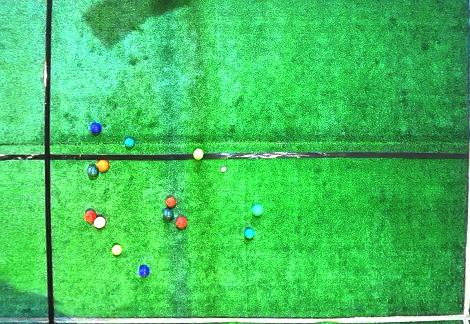blue: (90, 123, 101, 135), (139, 265, 149, 278)
green: (252, 204, 264, 216), (162, 208, 174, 220), (244, 228, 255, 240), (87, 165, 99, 176), (124, 137, 135, 148)
red: (97, 159, 110, 173), (85, 210, 97, 223), (94, 216, 106, 229), (175, 217, 188, 229), (166, 197, 177, 208)
vline: (1, 1, 57, 323), (460, 1, 469, 323)
white: (221, 167, 226, 172)
yellow: (111, 244, 122, 256), (193, 148, 204, 160)
